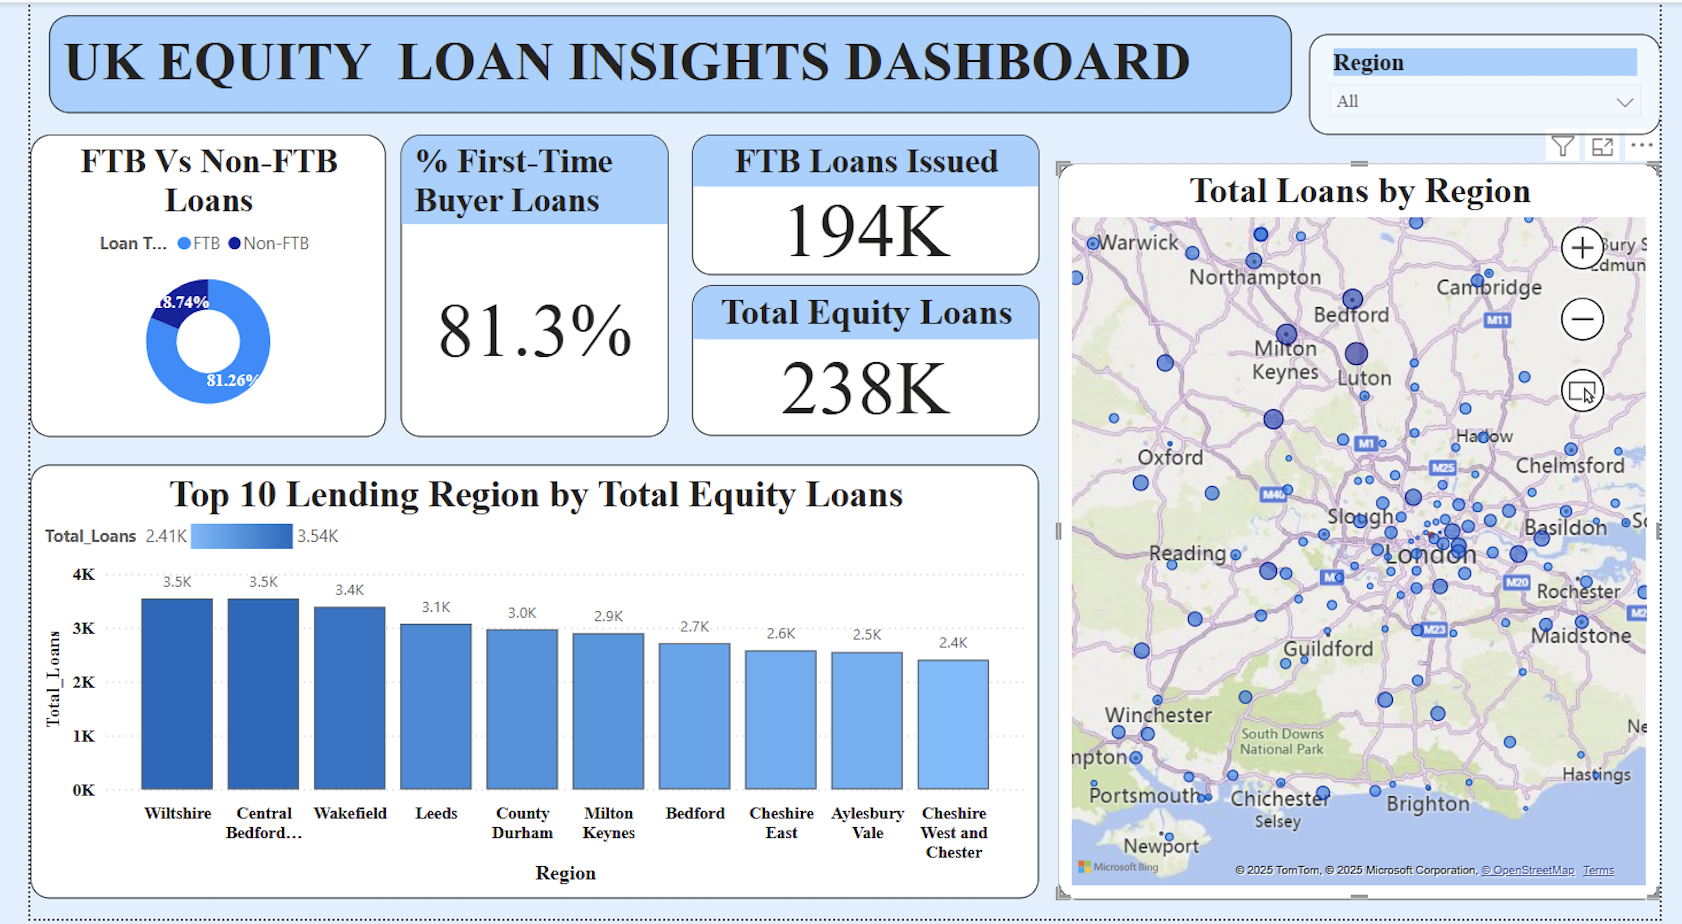

This screenshot's page, from the dashboard's own definition file:
{"tool":"powerbi","page":{"name":"National Overwiew","canvas":[1280,720],"ordinal":0},"visuals":[{"type":"card","title":"FTB Loans Issued","fields":{"Values":["EquitLoans_Main.Total_FTB"]},"box":[519.7,103.9,272.7,110.1],"z":0},{"type":"card","title":"Total Equity Loans","fields":{"Values":["EquitLoans_Main.Total_Loans"]},"box":[519.7,222.6,272.7,118.6],"z":1000},{"type":"card","title":"% First-Time Buyer Loans","fields":{"Values":["EquitLoans_Main._Toal_FTB_Percentage"]},"box":[291,103.9,210.3,237.2],"z":2000},{"type":"columnChart","title":"Top 10 Lending Region by Total Equity Loans","fields":{"Category":["EquitLoans_Main.Region"],"Y":["EquityLoans_Main.Total_Loans"]},"box":[0,363.2,792.4,341.2],"z":3000},{"type":"map","title":"Total Loans by Region","fields":{"Size":["EquityLoans_Main.Total_Loans"],"Category":["EquityLoans_Main.Location"]},"box":[807.1,126,473.2,578.4],"z":4000},{"type":"slicer","fields":{"Values":["EquityLoans_Main.Region"]},"box":[1003.9,24.5,276.4,79.5],"z":5000},{"type":"donutChart","title":"FTB Vs Non-FTB Loans","fields":{"Category":["LoanSplitChart.Loan Type"],"Y":["Sum(LoanSplitChart.Loan Count)"]},"box":[0,103.9,278.8,237.2],"z":6000},{"type":"textbox","box":[14.7,9.8,975.8,77],"z":7000}]}

Visuals, with their boxes in screenshot pixels (x1, y1, x2, y2), scaled from the page's 1280x720 canvas onto the 1682x924 screenshot:
"FTB Loans Issued" card: [left=683, top=133, right=1041, bottom=275]
"Total Equity Loans" card: [left=683, top=286, right=1041, bottom=438]
"% First-Time Buyer Loans" card: [left=382, top=133, right=659, bottom=438]
"Top 10 Lending Region by Total Equity Loans" columnChart: [left=0, top=466, right=1041, bottom=904]
"Total Loans by Region" map: [left=1061, top=162, right=1681, bottom=904]
slicer - EquityLoans_Main.Region: [left=1319, top=31, right=1681, bottom=133]
"FTB Vs Non-FTB Loans" donutChart: [left=0, top=133, right=366, bottom=438]
textbox: [left=19, top=13, right=1302, bottom=111]
